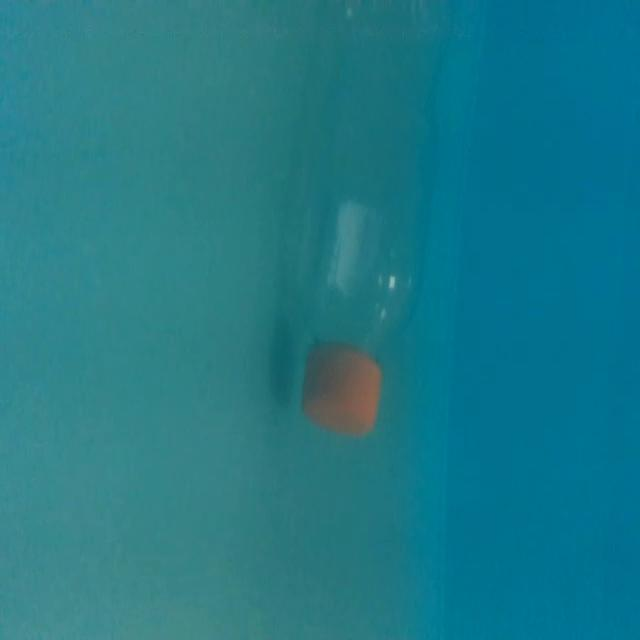plastic bottle: (290, 4, 445, 458)
